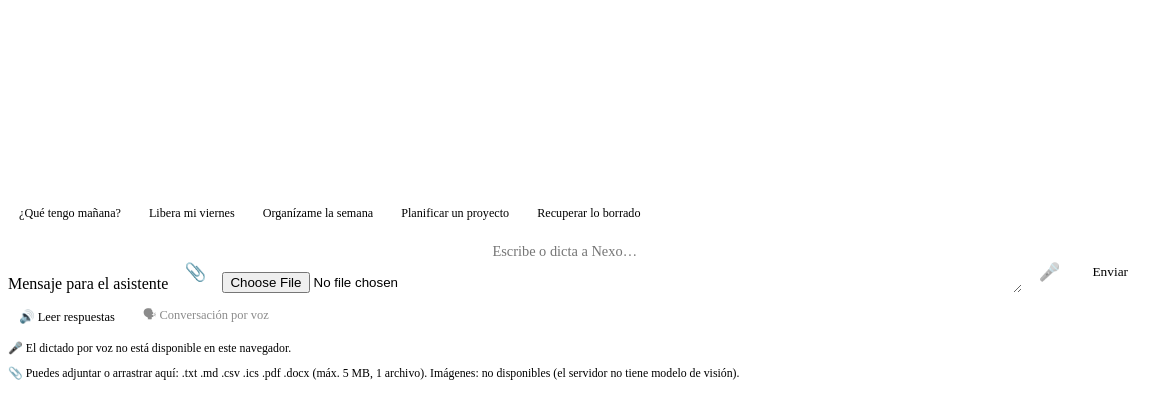
it: ChatIA › lo que dice el modelo se pinta como TEXTO, nunca como HTML
Type "hola" into the text box labelled "Mensaje para el asistente".
click(752, 263); type("hola")  # box [481,233,1022,293]
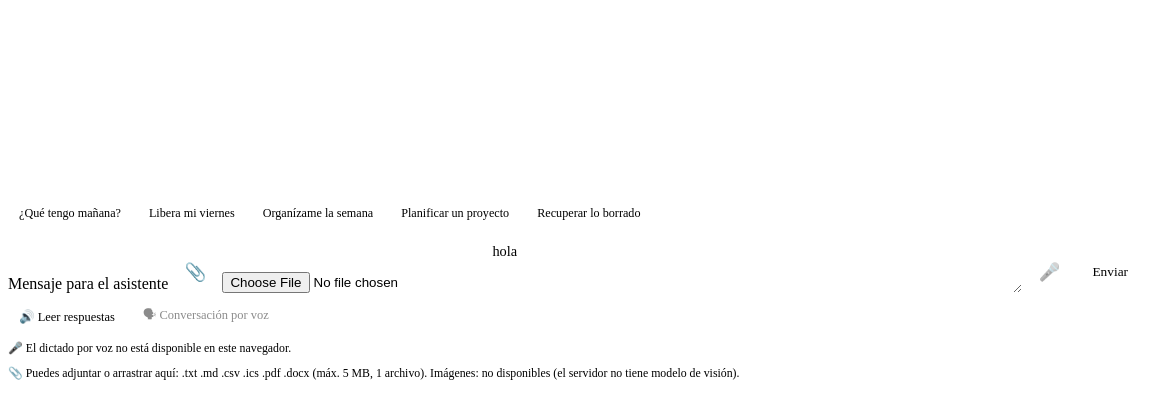
Submit the form, box [8,233,1144,293]
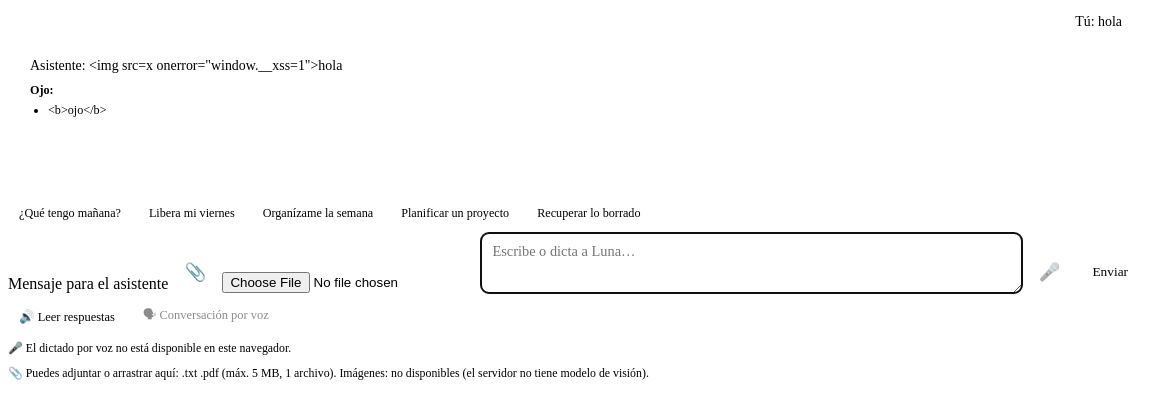
Result: the text "<img src=x onerror=\"window.__xss=1\">hola" is shown at [89,58,342,73]
